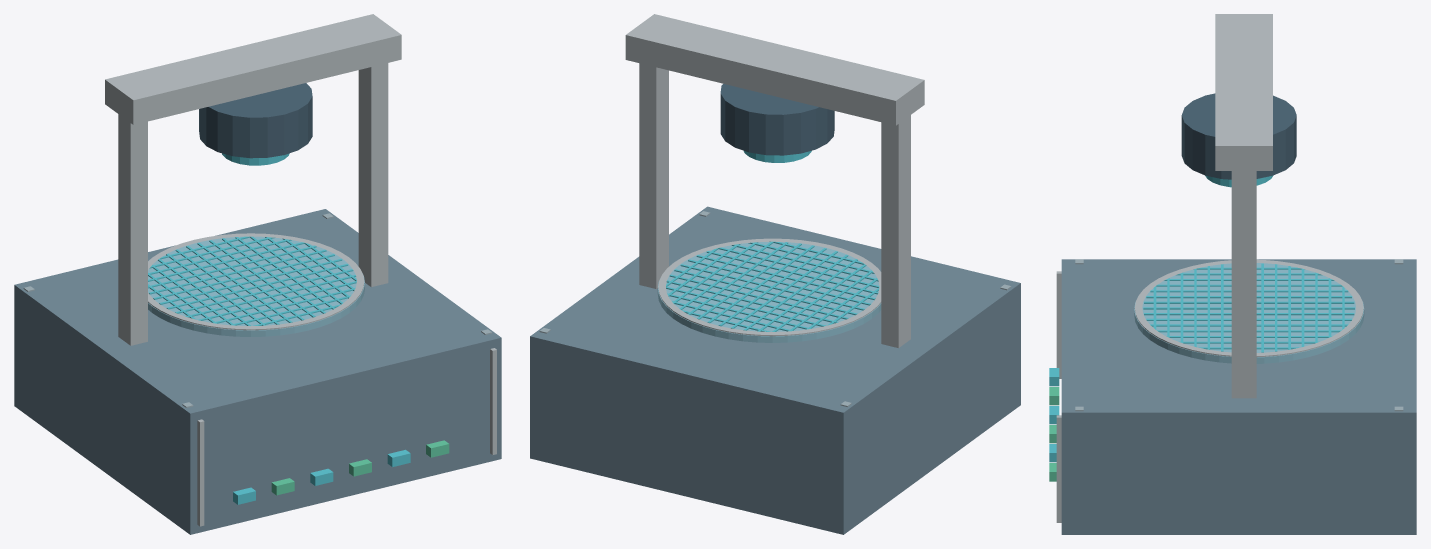
File: 38_L72_ConformalFilmMetrologyScanner.glb
3 renders of one model, left to right at view 1: azimuth 30°, elevation 25°; view 2: azimuth 150°, elevation 25°; view 3: azimuth 270°, elevation 25°, orthographic.
Visible parts, largest first — view 1: ConformalFilmMetrologyScanner_Part_000, ConformalFilmMetrologyScanner_Part_041, ConformalFilmMetrologyScanner_Part_007, ConformalFilmMetrologyScanner_Part_040, ConformalFilmMetrologyScanner_Part_039, ConformalFilmMetrologyScanner_Part_042, ConformalFilmMetrologyScanner_Part_008, ConformalFilmMetrologyScanner_Part_005, ConformalFilmMetrologyScanner_Part_006; view 2: ConformalFilmMetrologyScanner_Part_000, ConformalFilmMetrologyScanner_Part_041, ConformalFilmMetrologyScanner_Part_007, ConformalFilmMetrologyScanner_Part_039, ConformalFilmMetrologyScanner_Part_040, ConformalFilmMetrologyScanner_Part_042, ConformalFilmMetrologyScanner_Part_008; view 3: ConformalFilmMetrologyScanner_Part_000, ConformalFilmMetrologyScanner_Part_007, ConformalFilmMetrologyScanner_Part_041, ConformalFilmMetrologyScanner_Part_040, ConformalFilmMetrologyScanner_Part_042, ConformalFilmMetrologyScanner_Part_008, ConformalFilmMetrologyScanner_Part_006, ConformalFilmMetrologyScanner_Part_005, ConformalFilmMetrologyScanner_Part_021, ConformalFilmMetrologyScanner_Part_027, ConformalFilmMetrologyScanner_Part_023, ConformalFilmMetrologyScanner_Part_025 (+4 smaller).
Part boxes in pixels (x1,y1,x2,y2): ConformalFilmMetrologyScanner_Part_000: [14, 209, 501, 534]; ConformalFilmMetrologyScanner_Part_041: [105, 14, 401, 124]; ConformalFilmMetrologyScanner_Part_007: [148, 236, 364, 336]; ConformalFilmMetrologyScanner_Part_040: [358, 63, 388, 287]; ConformalFilmMetrologyScanner_Part_039: [118, 114, 147, 345]; ConformalFilmMetrologyScanner_Part_042: [199, 83, 312, 158]; ConformalFilmMetrologyScanner_Part_008: [148, 233, 364, 330]; ConformalFilmMetrologyScanner_Part_005: [197, 419, 204, 526]; ConformalFilmMetrologyScanner_Part_006: [490, 348, 496, 454]; ConformalFilmMetrologyScanner_Part_000: [530, 206, 1020, 534]; ConformalFilmMetrologyScanner_Part_041: [625, 14, 924, 125]; ConformalFilmMetrologyScanner_Part_007: [657, 242, 881, 342]; ConformalFilmMetrologyScanner_Part_039: [881, 115, 910, 347]; ConformalFilmMetrologyScanner_Part_040: [639, 63, 668, 288]; ConformalFilmMetrologyScanner_Part_042: [720, 84, 834, 155]; ConformalFilmMetrologyScanner_Part_008: [658, 238, 881, 336]; ConformalFilmMetrologyScanner_Part_000: [1061, 259, 1416, 534]; ConformalFilmMetrologyScanner_Part_007: [1134, 263, 1364, 363]; ConformalFilmMetrologyScanner_Part_041: [1215, 14, 1272, 170]; ConformalFilmMetrologyScanner_Part_040: [1231, 171, 1256, 398]; ConformalFilmMetrologyScanner_Part_042: [1181, 93, 1296, 179]; ConformalFilmMetrologyScanner_Part_008: [1134, 259, 1363, 356]; ConformalFilmMetrologyScanner_Part_006: [1056, 415, 1061, 522]; ConformalFilmMetrologyScanner_Part_005: [1056, 271, 1061, 378]; ConformalFilmMetrologyScanner_Part_021: [1144, 301, 1354, 303]; ConformalFilmMetrologyScanner_Part_027: [1146, 318, 1351, 320]; ConformalFilmMetrologyScanner_Part_023: [1143, 307, 1354, 309]; ConformalFilmMetrologyScanner_Part_025: [1144, 313, 1354, 315].
Bounding box in the file's own units: 1.45 × 1.66 × 1.47.
